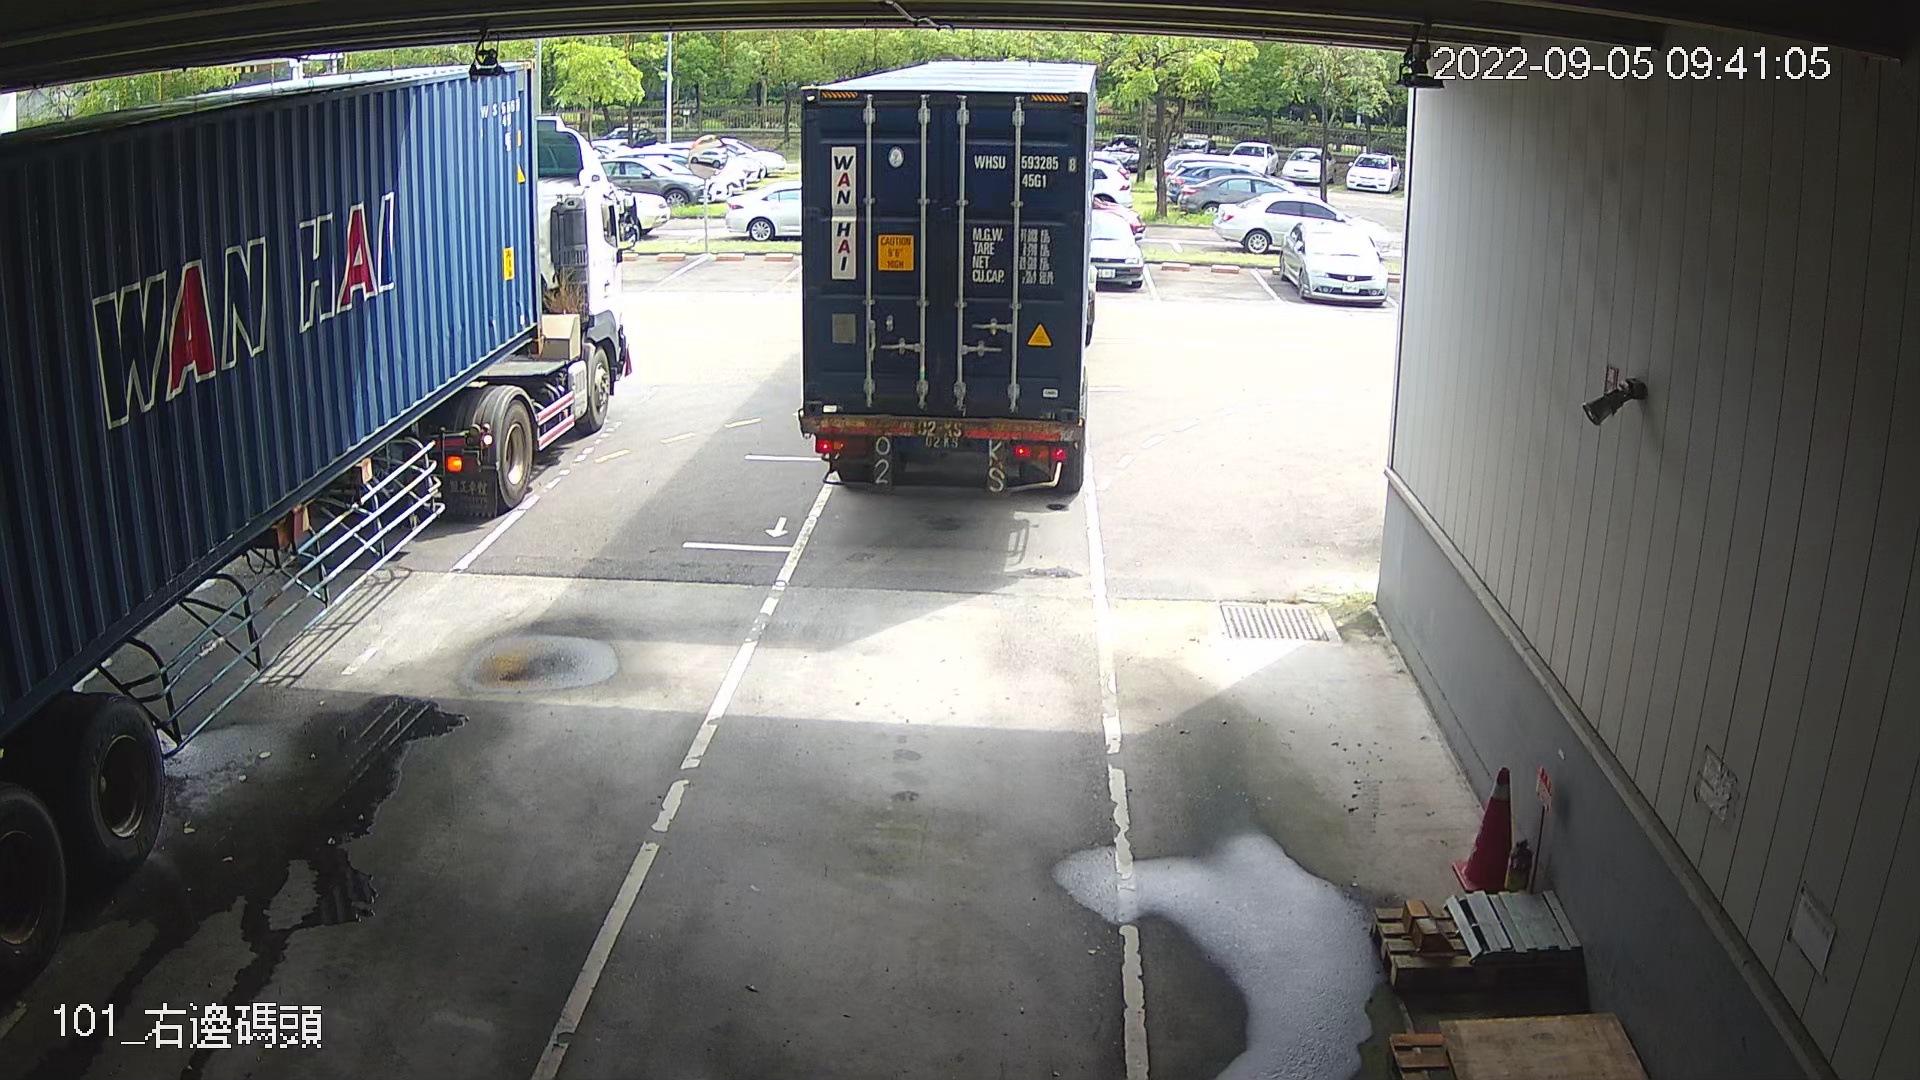container: (967, 145, 1081, 195)
